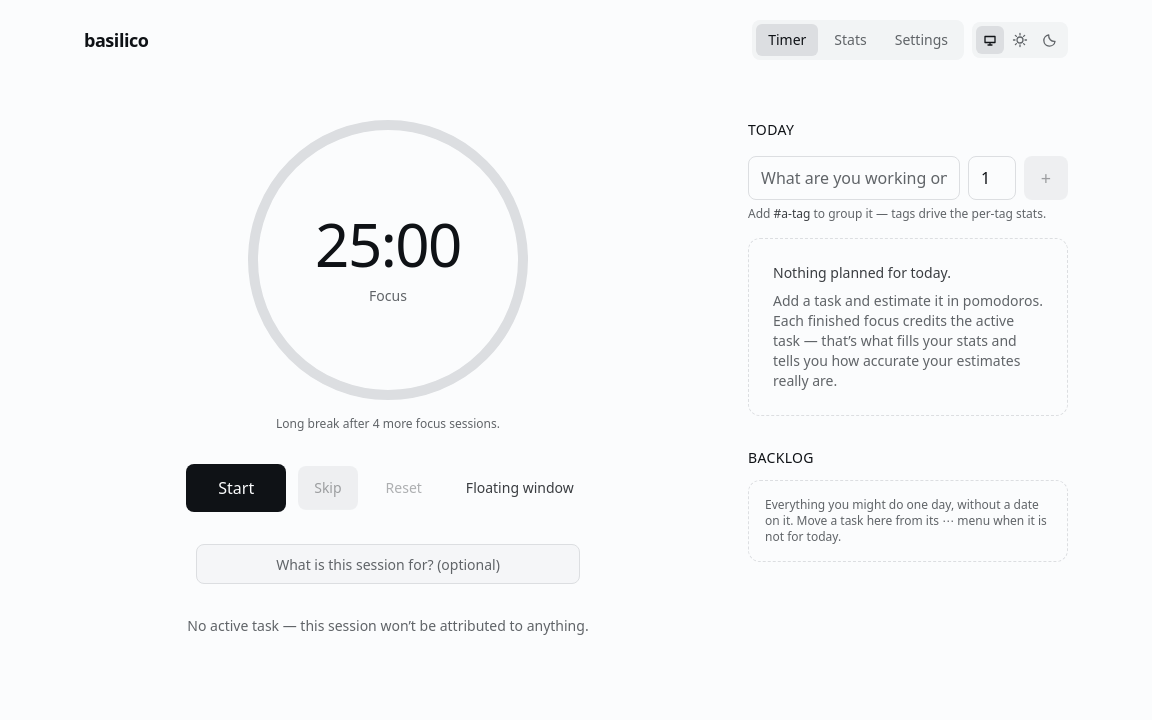
Test: tasks › pulls a #tag out of what you type and offers it back as a chip
This screenshot has width=1152, height=720.
Type "Write the core #basilico" into the field named "Task title" at x=854, y=178, box [748,156,960,200]
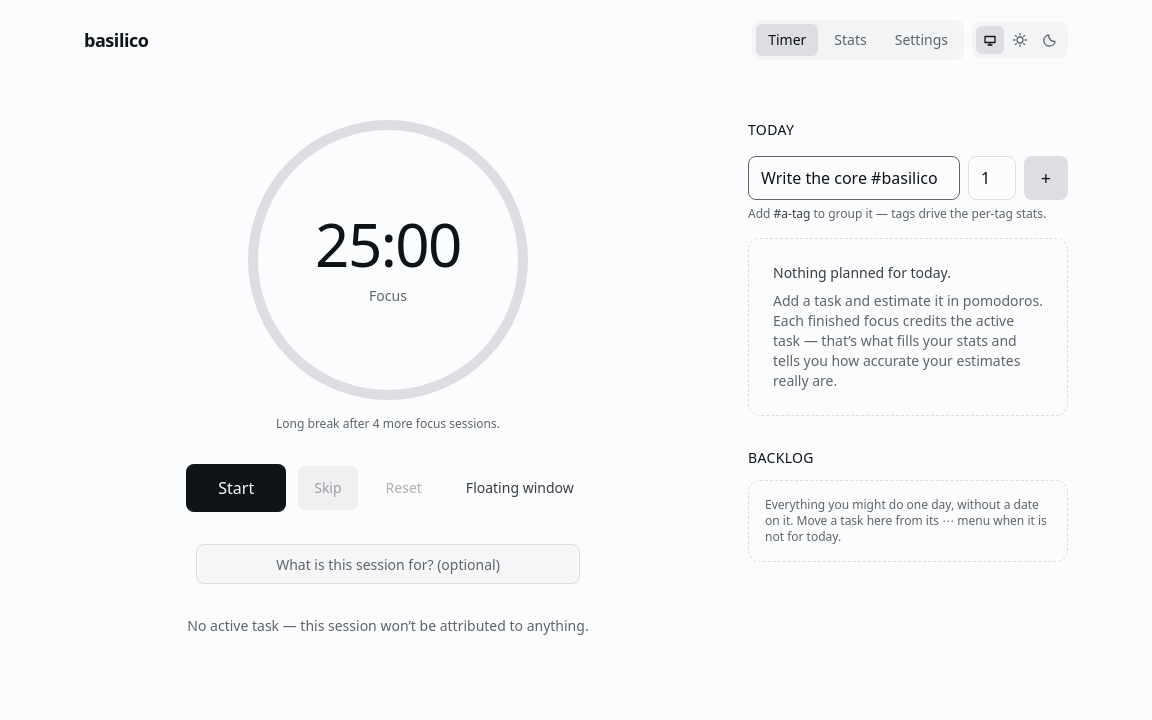
Click the button named "Add" at x=1046, y=178, box [1024,156,1068,200]
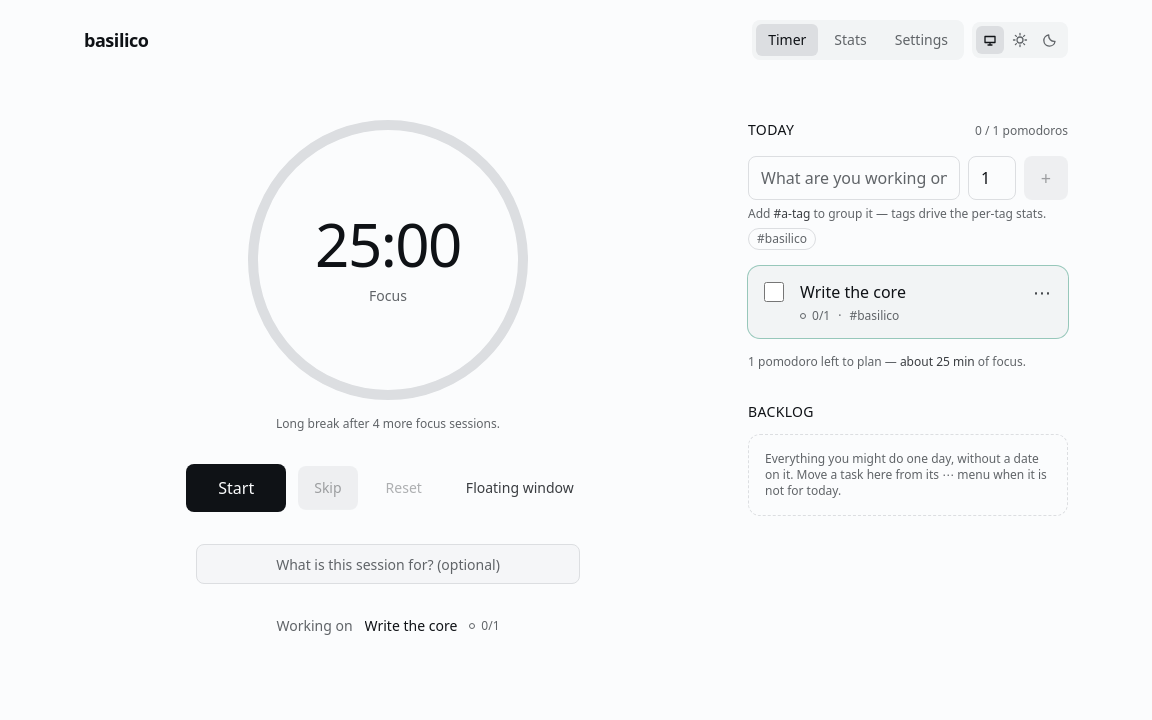
Expected: the link "basilico" is shown, [84,26,148,54]
Expected: the text "Write the core" next to "Working on" is shown, [365,616,457,635]
Expected: the button "#basilico" is shown, [748,228,816,250]
